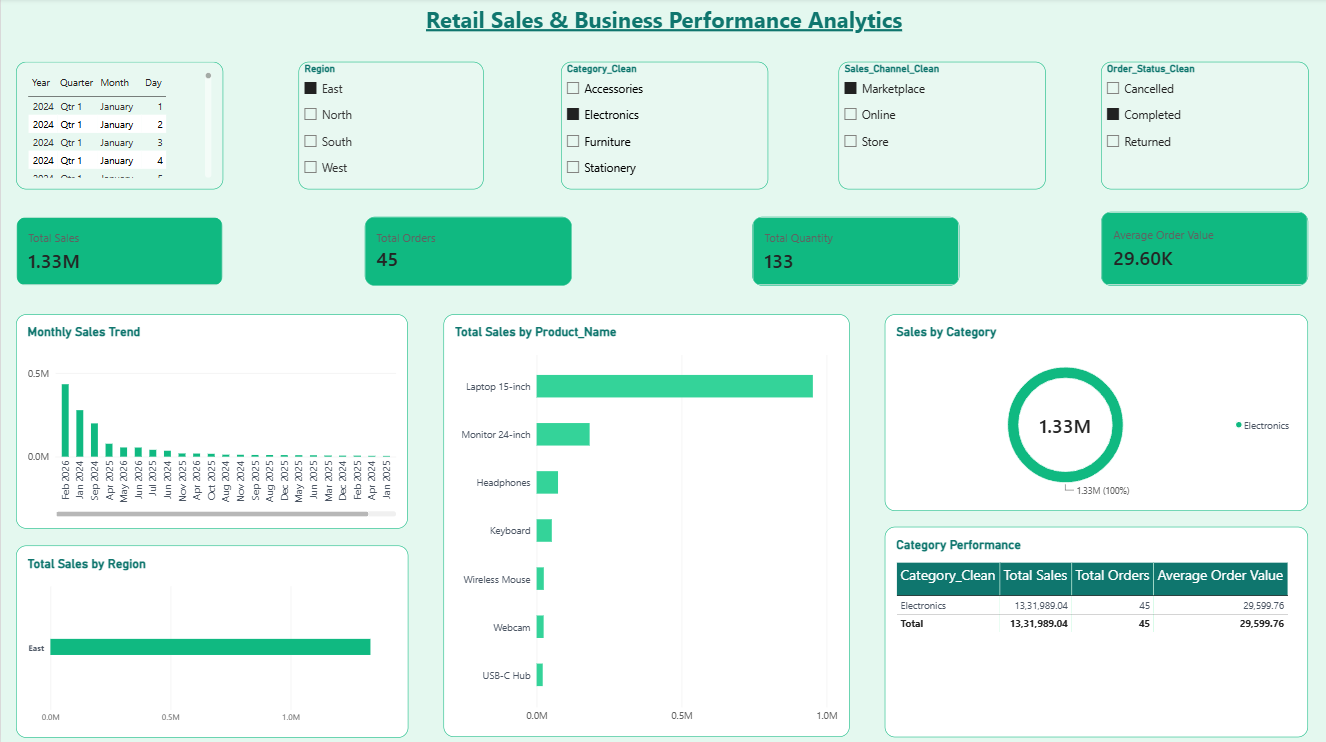

What the dashboard file says about the page in this screenshot:
{"tool":"powerbi","page":{"name":"Executive Overview","canvas":[1920,1080],"ordinal":0},"visuals":[{"type":"textbox","box":[590,8.8,740,50],"z":0},{"type":"tableEx","fields":{"Values":["DateTable.Date.Variation.Date Hierarchy.Year","DateTable.Date.Variation.Date Hierarchy.Quarter","DateTable.Date.Variation.Date Hierarchy.Month","DateTable.Date.Variation.Date Hierarchy.Day"]},"box":[22.5,92.5,300,185],"z":1000},{"type":"slicer","fields":{"Values":["Clean_data.Category_Clean"]},"box":[810,92.5,300,185],"z":2000},{"type":"slicer","fields":{"Values":["Clean_data.Sales_Channel_Clean"]},"box":[1212.5,92.5,300,185],"z":3000},{"type":"slicer","fields":{"Values":["Clean_data.Order_Status_Clean"]},"box":[1592.5,92.3,300.4,184.6],"z":4000},{"type":"cardVisual","fields":{"Data":["Clean_data.Total Sales"]},"box":[22.5,317.5,300,100],"z":5000},{"type":"cardVisual","fields":{"Data":["Clean_data.Total Orders"]},"box":[527.5,317.5,300,100],"z":6000},{"type":"cardVisual","fields":{"Data":["Clean_data.Total Quantity"]},"box":[1087.5,317.5,300,100],"z":7000},{"type":"cardVisual","fields":{"Data":["Clean_data.Average Order Value"]},"box":[1592.5,310,300,107.5],"z":8000},{"type":"clusteredColumnChart","title":"Monthly Sales Trend","fields":{"Category":["DateTable.Month Year"],"Y":["Clean_data.Total Sales"]},"box":[22.2,457.4,567.5,310],"z":9000},{"type":"donutChart","title":"Sales by Category","fields":{"Category":["Clean_data.Category_Clean"],"Y":["Clean_data.Total Sales"]},"box":[1280,457.5,612.5,285],"z":10000},{"type":"barChart","fields":{"Category":["Clean_data.Region"],"Y":["Clean_data.Total Sales"]},"box":[22.2,792.6,568,278],"z":11000},{"type":"barChart","fields":{"Category":["Clean_data.Product_Name"],"Y":["Clean_data.Total Sales"]},"box":[640,457.8,587.8,612.2],"z":12000},{"type":"tableEx","title":"Category Performance","fields":{"Values":["Clean_data.Category_Clean","Clean_data.Total Sales","Clean_data.Total Orders","Clean_data.Average Order Value"]},"box":[1280,765,612.5,305],"z":13000},{"type":"slicer","fields":{"Values":["Clean_data.Region"]},"box":[430,92.5,268,185],"z":14000}]}

Visuals, with their boxes in screenshot pixels (x1, y1, x2, y2), scaled from the page's 1920x1080 canvas onto the 1326x742 screenshot:
textbox: rect(407, 6, 919, 40)
tableEx - DateTable.Date.Variation.Date Hierarchy.Year x DateTable.Date.Variation.Date Hierarchy.Quarter: rect(16, 64, 223, 191)
slicer - Clean_data.Category_Clean: rect(559, 64, 767, 191)
slicer - Clean_data.Sales_Channel_Clean: rect(837, 64, 1045, 191)
slicer - Clean_data.Order_Status_Clean: rect(1100, 63, 1307, 190)
cardVisual - Clean_data.Total Sales: rect(16, 218, 223, 287)
cardVisual - Clean_data.Total Orders: rect(364, 218, 571, 287)
cardVisual - Clean_data.Total Quantity: rect(751, 218, 958, 287)
cardVisual - Clean_data.Average Order Value: rect(1100, 213, 1307, 287)
"Monthly Sales Trend" clusteredColumnChart: rect(15, 314, 407, 527)
"Sales by Category" donutChart: rect(884, 314, 1307, 510)
barChart - Clean_data.Region x Clean_data.Total Sales: rect(15, 545, 408, 736)
barChart - Clean_data.Product_Name x Clean_data.Total Sales: rect(442, 315, 848, 735)
"Category Performance" tableEx: rect(884, 526, 1307, 735)
slicer - Clean_data.Region: rect(297, 64, 482, 191)
